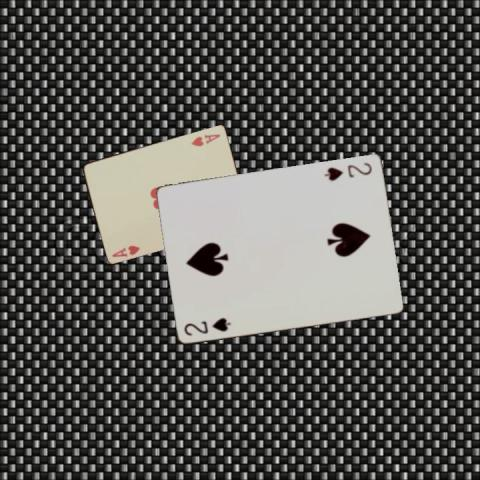2s: (322, 160, 373, 183), (181, 315, 232, 337)
Ah: (189, 131, 222, 147), (109, 242, 141, 258)
